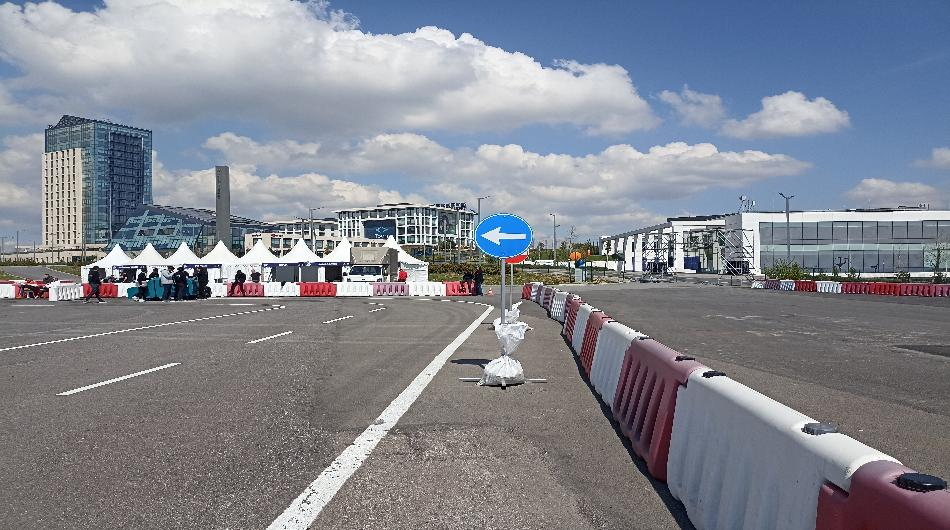sola_mecburi_1: (472, 207, 532, 260)
